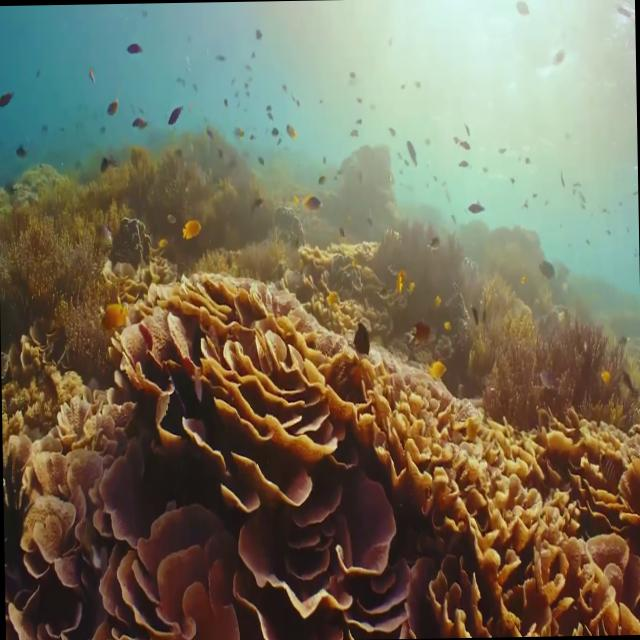fish: (94, 286, 128, 346), (350, 311, 376, 366), (300, 182, 330, 228), (425, 348, 451, 394), (178, 207, 206, 244), (402, 312, 428, 350), (402, 129, 422, 177), (160, 104, 188, 136), (466, 192, 490, 224), (124, 30, 142, 61), (0, 81, 14, 113)
